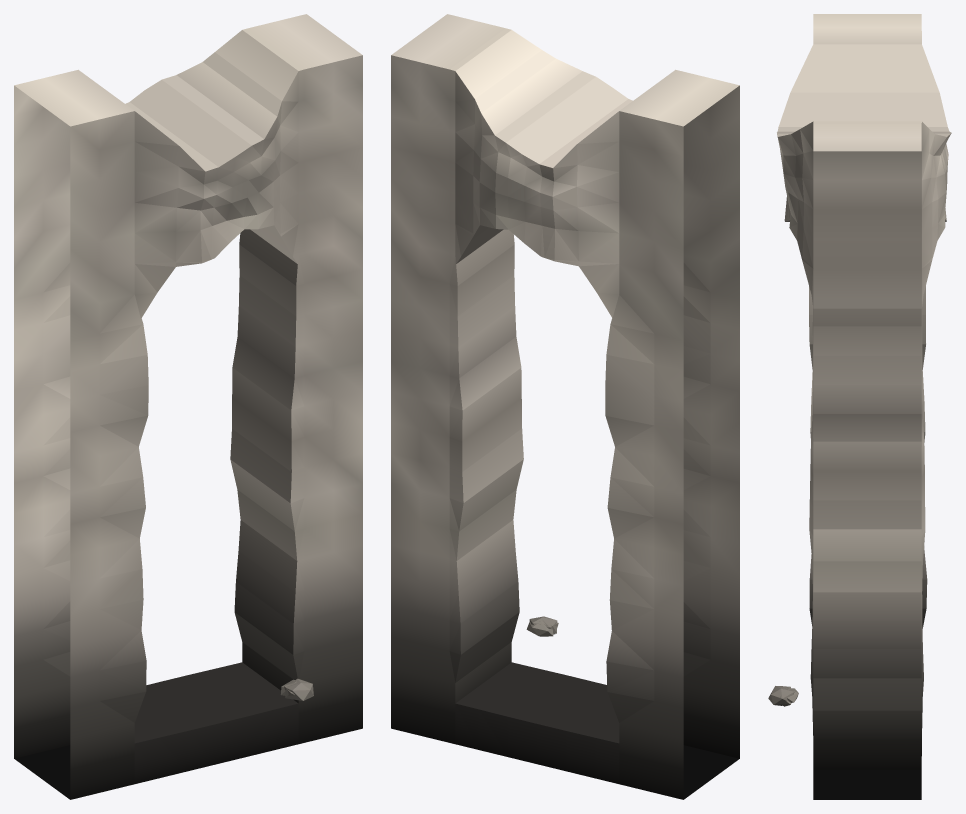
Rendered from SM_VKI_Wall_Cave_Gap_150_Full.fbx.
3 renders of one model, left to right at view 1: azimuth 30°, elevation 25°; view 2: azimuth 150°, elevation 25°; view 3: azimuth 270°, elevation 25°, orthographic. The views are drawn at different scales.
Visible parts, largest first — view 1: SM_VKI_Wall_Cave_Gap_150_Full.001; view 2: SM_VKI_Wall_Cave_Gap_150_Full.001; view 3: SM_VKI_Wall_Cave_Gap_150_Full.001.
Boxes of the visible parts, <box> form: SM_VKI_Wall_Cave_Gap_150_Full.001: <box>14,14,362,799</box>; SM_VKI_Wall_Cave_Gap_150_Full.001: <box>391,14,739,799</box>; SM_VKI_Wall_Cave_Gap_150_Full.001: <box>768,14,951,799</box>.
Bounding box in the file's own units: 1.5 × 3.3 × 0.8467.
